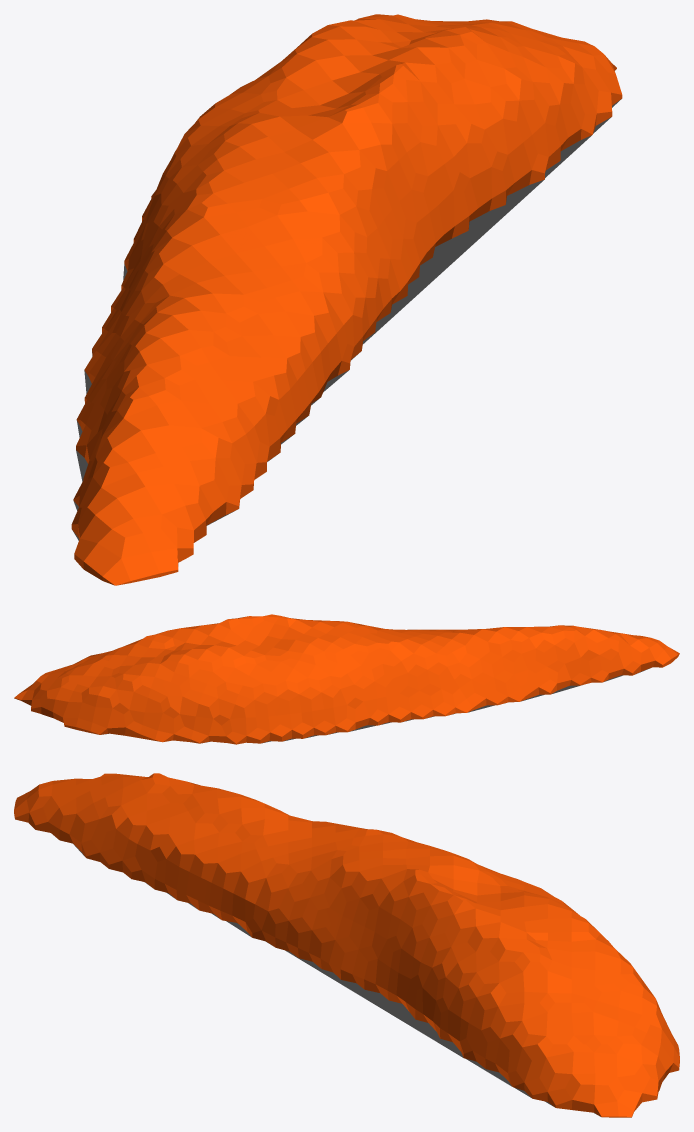
The picture shows the model from 3 angles, top to bottom: view 1: azimuth 30°, elevation 25°; view 2: azimuth 150°, elevation 25°; view 3: azimuth 270°, elevation 25°; orthographic projection. The views are drawn at different scales.
Visible parts, largest first — view 1: 19.003; view 2: 19.003; view 3: 19.003.
Part boxes in pixels (x1,y1,x2,y2): 19.003: (71, 14, 622, 585); 19.003: (14, 614, 679, 744); 19.003: (14, 773, 679, 1117).
Size of the model in its own units: 16.17 by 2.52 by 14.11.
